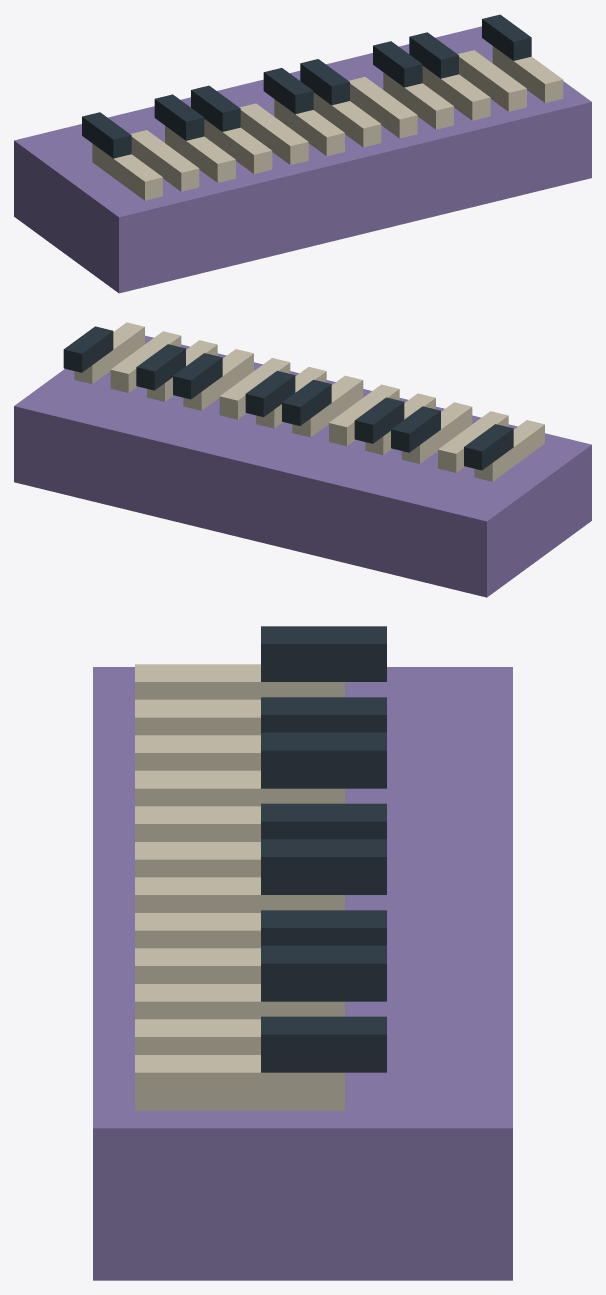
Rendered from software-04.glb.
3 renders of one model, top to bottom at view 1: azimuth 30°, elevation 25°; view 2: azimuth 150°, elevation 25°; view 3: azimuth 270°, elevation 25°, orthographic. The views are drawn at different scales.
Visible parts, largest first — view 1: Mechanical keyboard; view 2: Mechanical keyboard; view 3: Mechanical keyboard.
Part boxes in pixels (x1,y1,x2,y2): Mechanical keyboard: [14, 14, 591, 293]; Mechanical keyboard: [14, 322, 591, 597]; Mechanical keyboard: [93, 626, 512, 1280].
Size of the model in its own units: 2.08 by 0.48 by 0.8.
